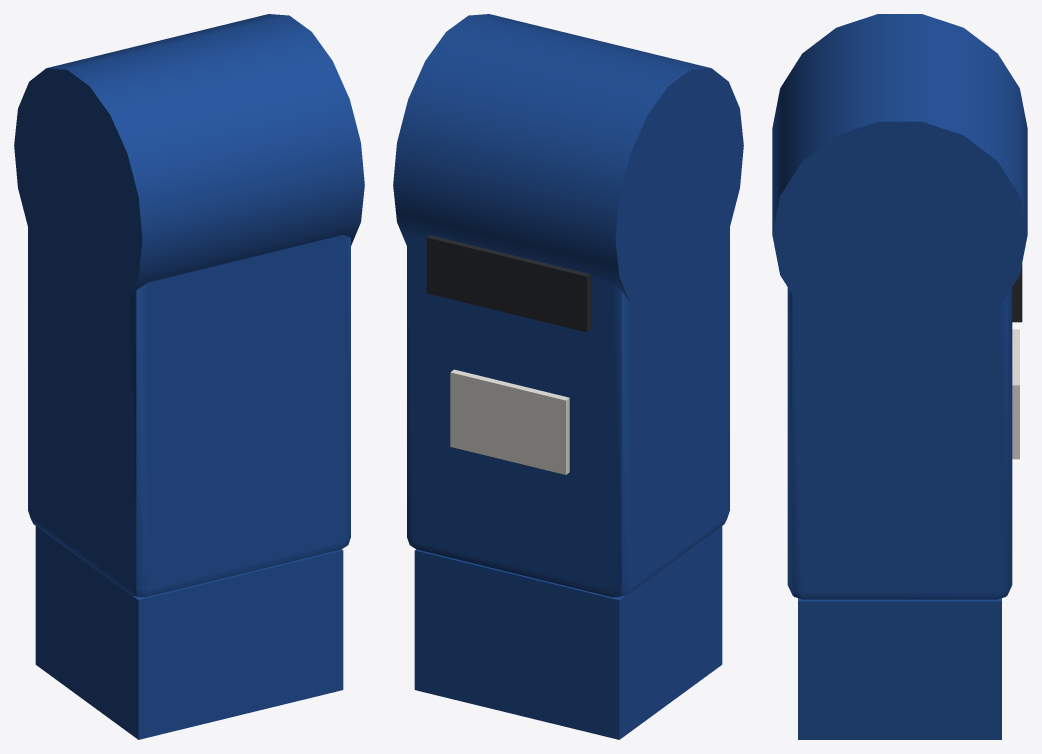
The model's file is mailbox.glb.
3 views of the same model, side by side, from view 1: azimuth 30°, elevation 25°; view 2: azimuth 150°, elevation 25°; view 3: azimuth 270°, elevation 25° (orthographic).
Parts seen in each view (by area): view 1: part-mail-blue; view 2: part-mail-blue, part-iron, part-enamel-white; view 3: part-mail-blue, part-enamel-white, part-iron.
Part boxes in pixels (x1=…): part-mail-blue: x1=14, y1=14, x2=364, y2=739; part-mail-blue: x1=393, y1=14, x2=743, y2=739; part-iron: x1=426, y1=235, x2=591, y2=332; part-enamel-white: x1=450, y1=369, x2=569, y2=474; part-mail-blue: x1=772, y1=14, x2=1027, y2=739; part-enamel-white: x1=1012, y1=329, x2=1019, y2=459; part-iron: x1=1012, y1=263, x2=1022, y2=322.
Bounding box in the file's own units: 5 × 13.46 × 5.
